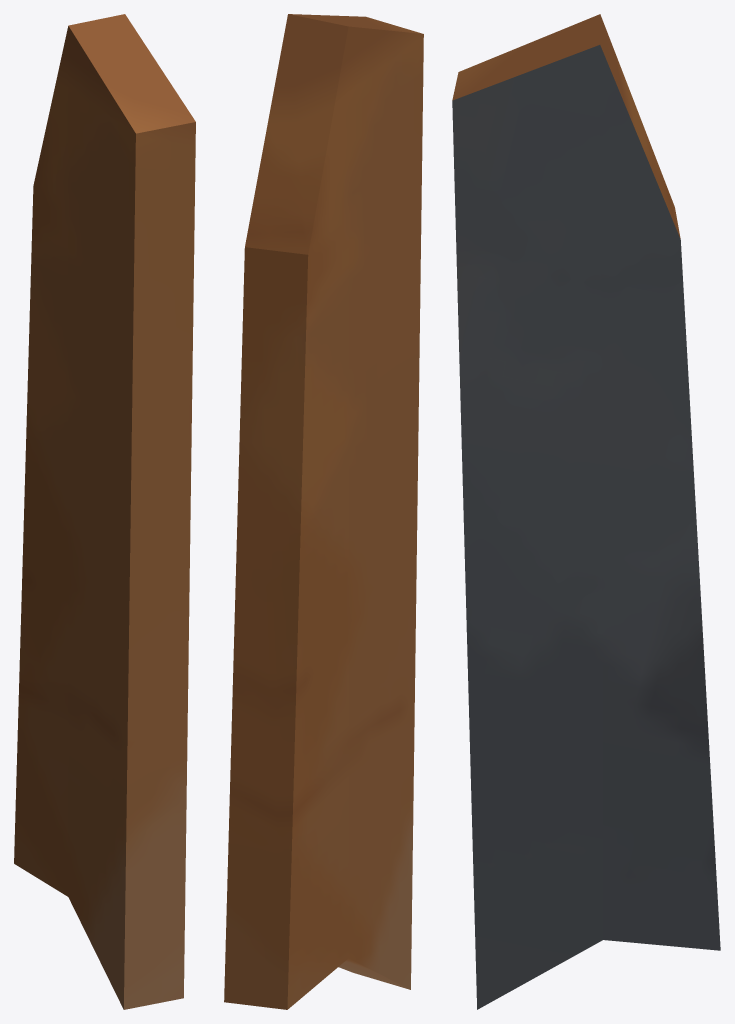
The model's file is DebrisCaisse3.FBX.
The picture shows the model from 3 angles, left to right: view 1: azimuth 30°, elevation 25°; view 2: azimuth 150°, elevation 25°; view 3: azimuth 270°, elevation 25°; orthographic projection. The views are drawn at different scales.
Visible parts, largest first — view 1: Debris3; view 2: Debris3; view 3: Debris3.
Part boxes in pixels (<box>): Debris3: <box>14,14,195,1009</box>; Debris3: <box>224,14,423,1009</box>; Debris3: <box>452,14,720,1009</box>.
Bounding box in the file's own units: 0.1025 × 1.56 × 0.3919.
